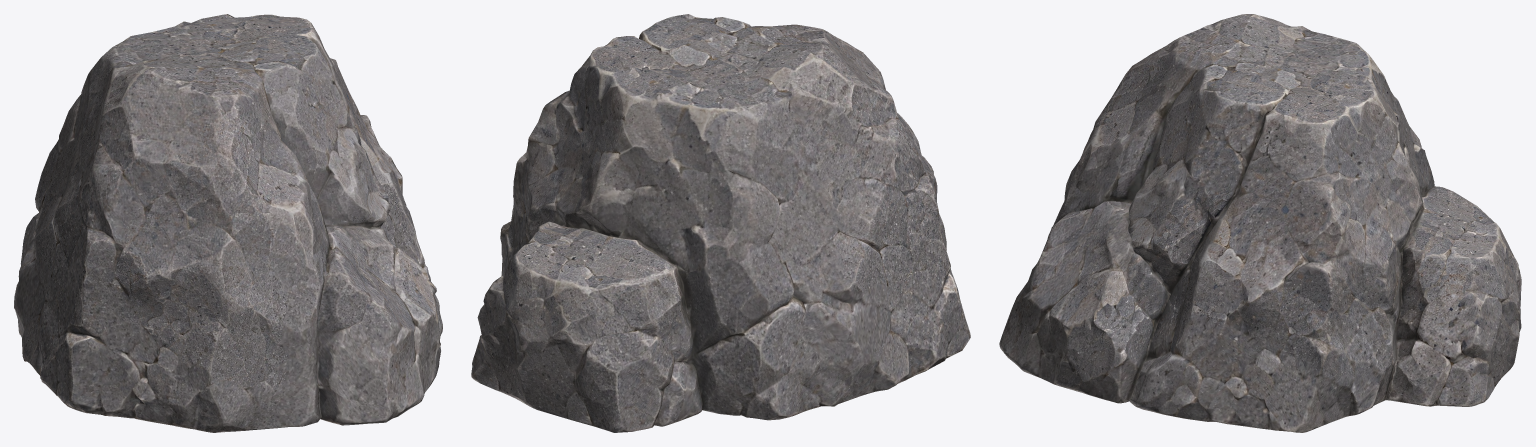
Rendered from rock-compact-e94279c.glb.
The picture shows the model from 3 angles, left to right: view 1: azimuth 30°, elevation 25°; view 2: azimuth 150°, elevation 25°; view 3: azimuth 270°, elevation 25°; orthographic projection. The views are drawn at different scales.
Visible parts, largest first — view 1: tripo_node_5c73d5ff-0ffb-40eb-bd00-c3beaba5a3c1; view 2: tripo_node_5c73d5ff-0ffb-40eb-bd00-c3beaba5a3c1; view 3: tripo_node_5c73d5ff-0ffb-40eb-bd00-c3beaba5a3c1.
Boxes of the visible parts, bbox=[...] form: tripo_node_5c73d5ff-0ffb-40eb-bd00-c3beaba5a3c1: bbox=[14, 14, 442, 432]; tripo_node_5c73d5ff-0ffb-40eb-bd00-c3beaba5a3c1: bbox=[471, 14, 970, 432]; tripo_node_5c73d5ff-0ffb-40eb-bd00-c3beaba5a3c1: bbox=[999, 14, 1521, 432].
Size of the model in its own units: 0.8718 by 0.5995 by 1.
1 material, 1 textured.
